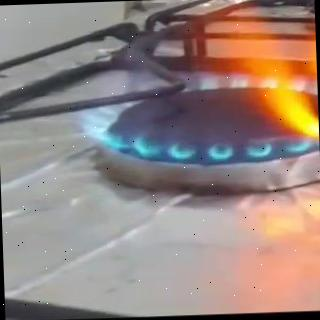fire: (72, 0, 320, 167)
